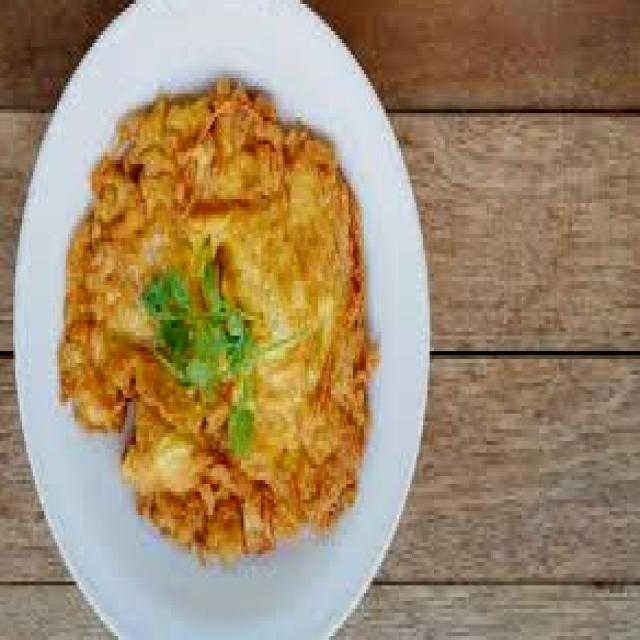telur_dadar: (65, 95, 372, 568)
